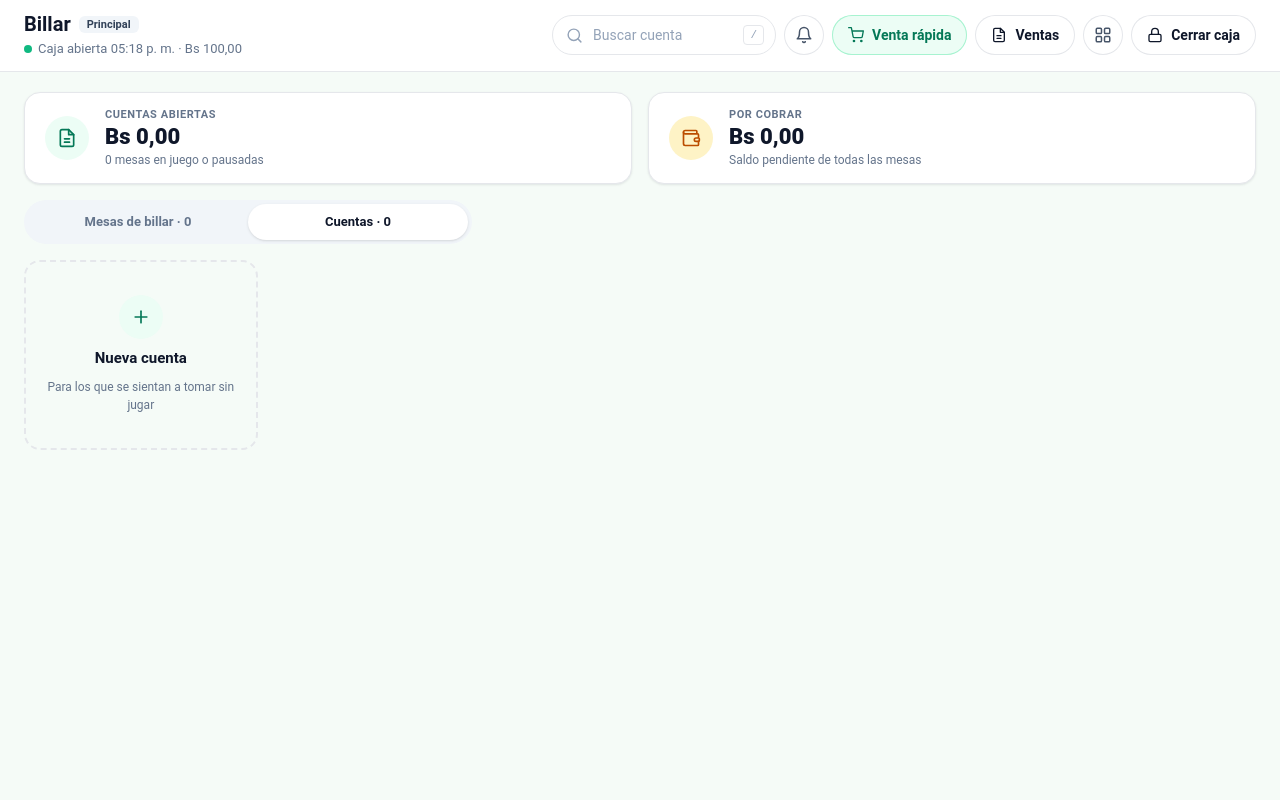
Test: Billar: las cuentas abiertas › «Nueva cuenta» pide sólo el nombre, la abre en el local del tablero y muestra su panel
expect the heading "Billar Principal" is shown: met, box [24, 12, 139, 36]
Click the button "Nueva cuenta Para los que se sientan a tomar sin jugar": (141, 354) [24, 260, 258, 450]
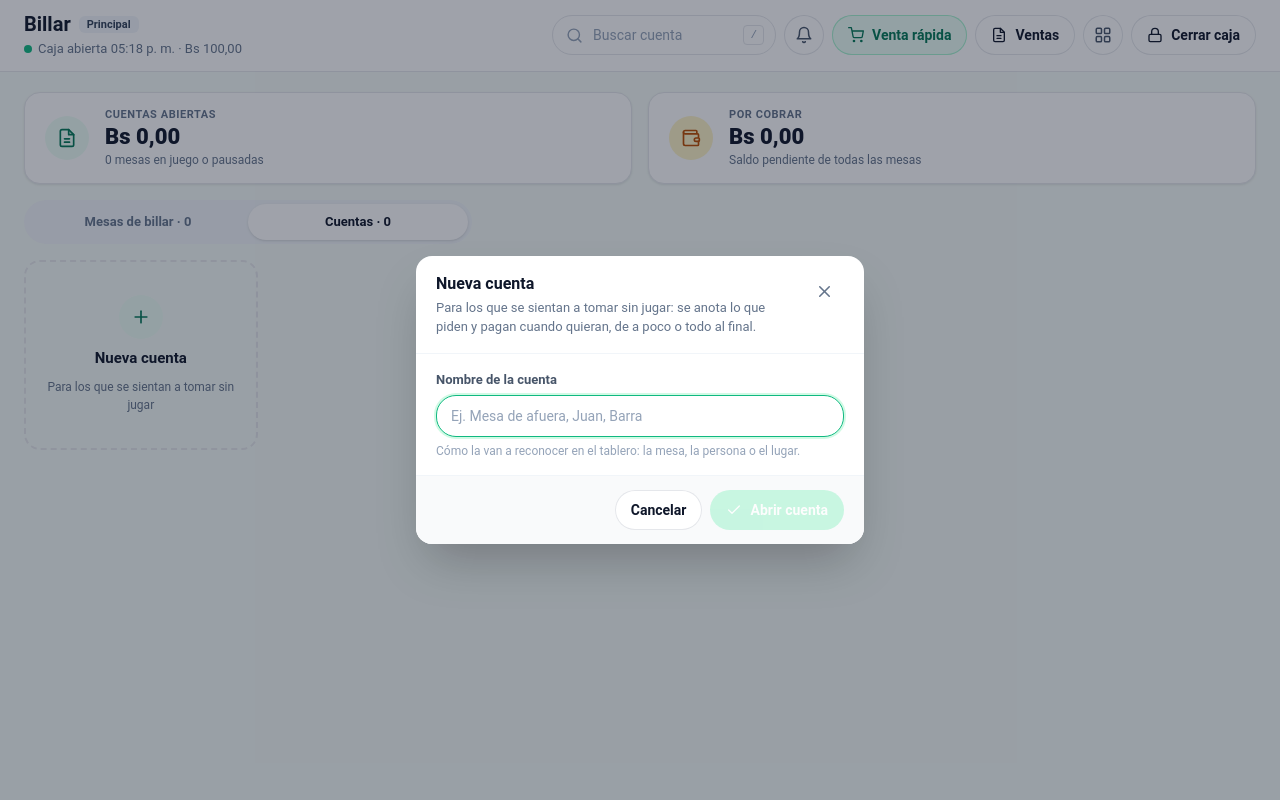
Note: Una letra no alcanza: así no se distingue en el tablero.
In the field with placeholder "Ej. Mesa de afuera, Juan, Barra": (640, 416) [436, 395, 844, 437], type "B"
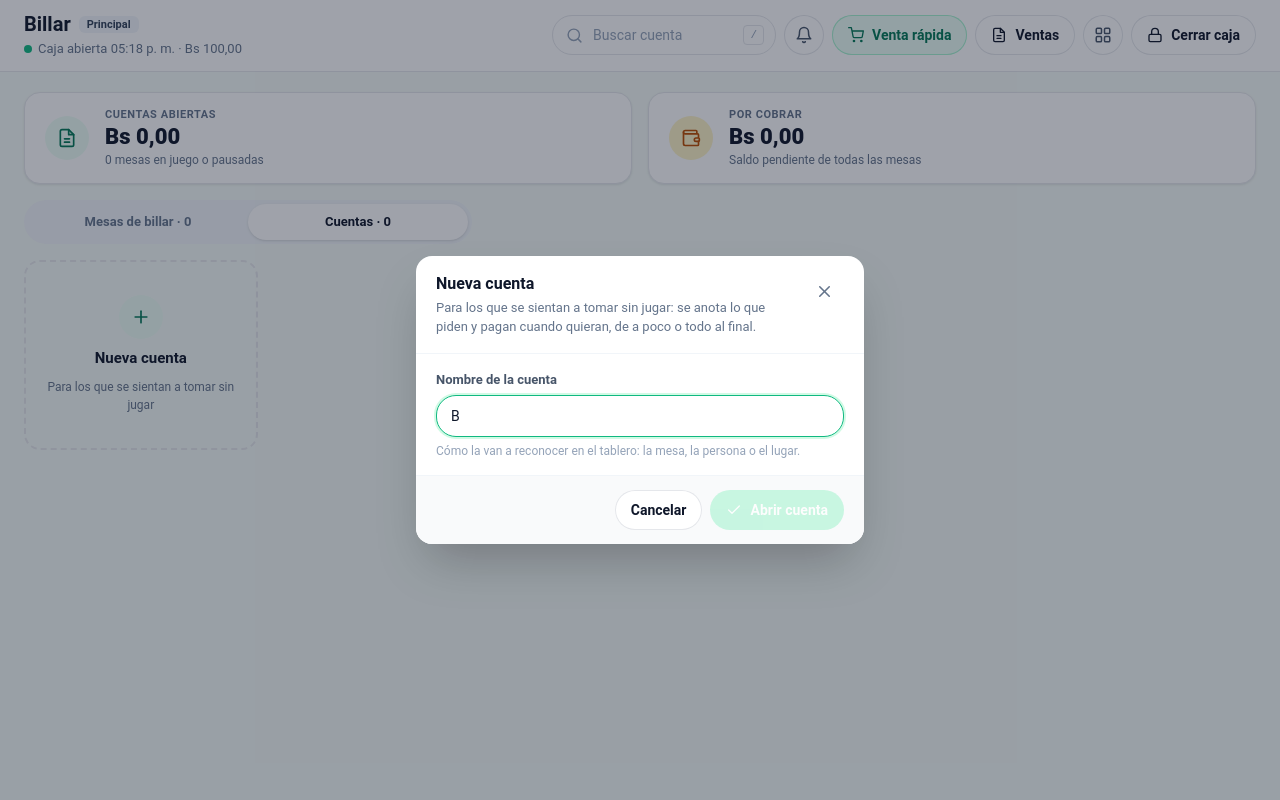
expect the button "Abrir cuenta" is disabled: met, box [710, 490, 844, 530]
Replace the text in the field with placeholder "Ej. Mesa de afuera, Juan, Barra" with "  Barra  ": (640, 416) [436, 395, 844, 437]
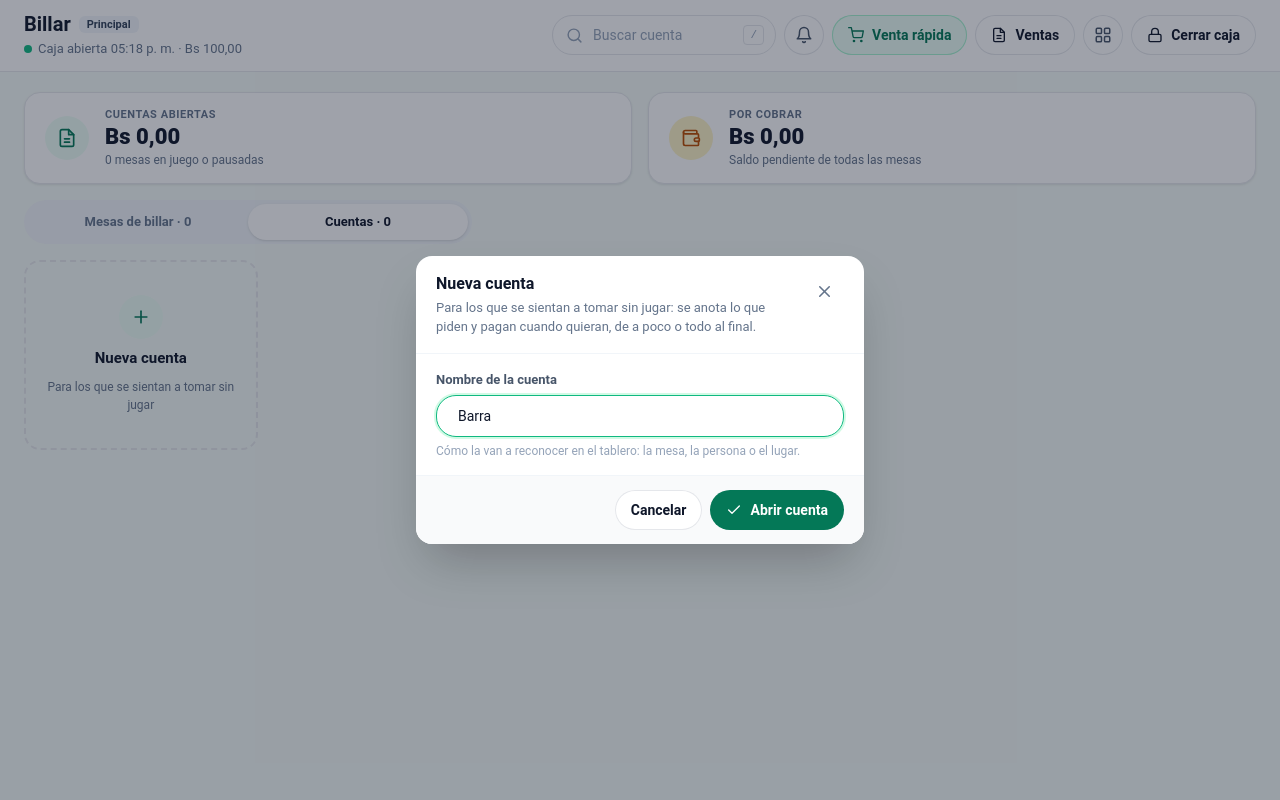
Click the button "Abrir cuenta": (777, 510) [710, 490, 844, 530]
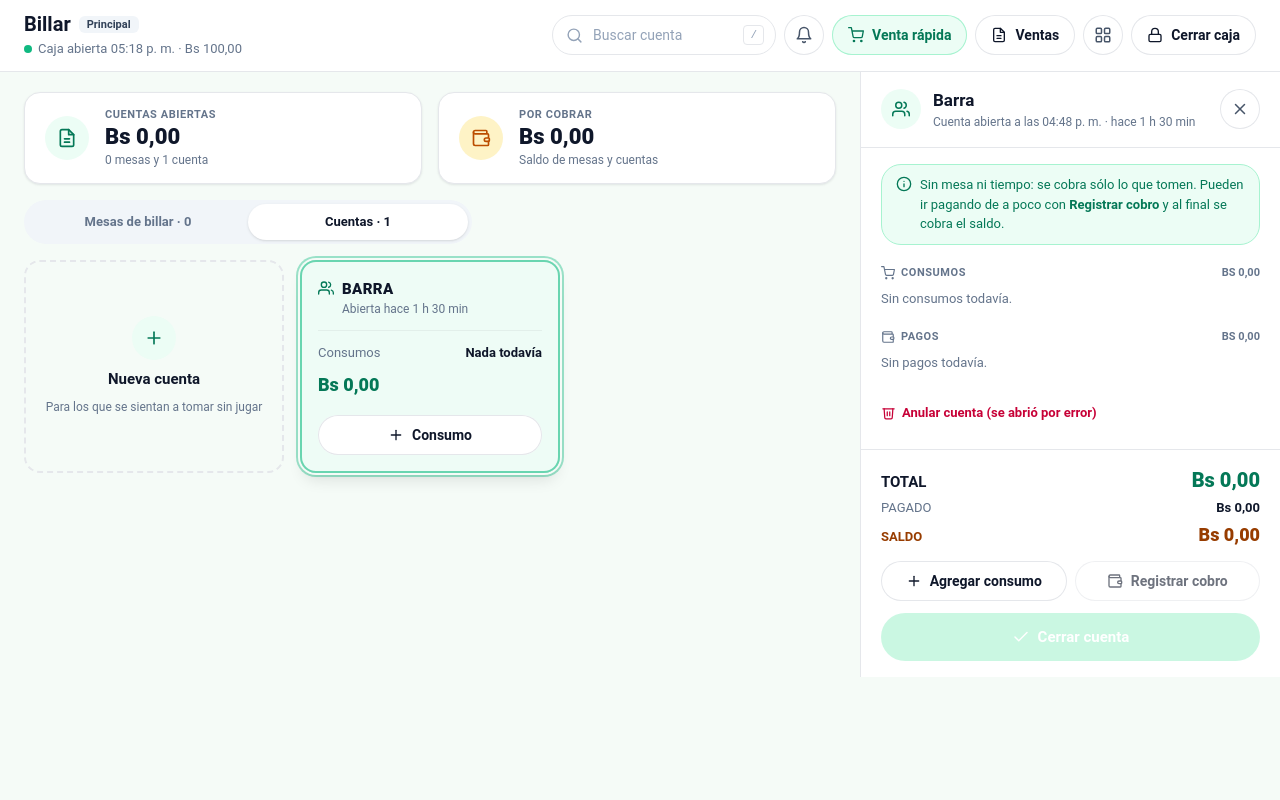
expect the heading "Barra" is shown: met, box [933, 90, 974, 110]
expect the text "Sin consumos todavía." is shown: met, box [881, 291, 1012, 306]
expect the button "Cerrar cuenta" is disabled: met, box [881, 613, 1260, 661]
